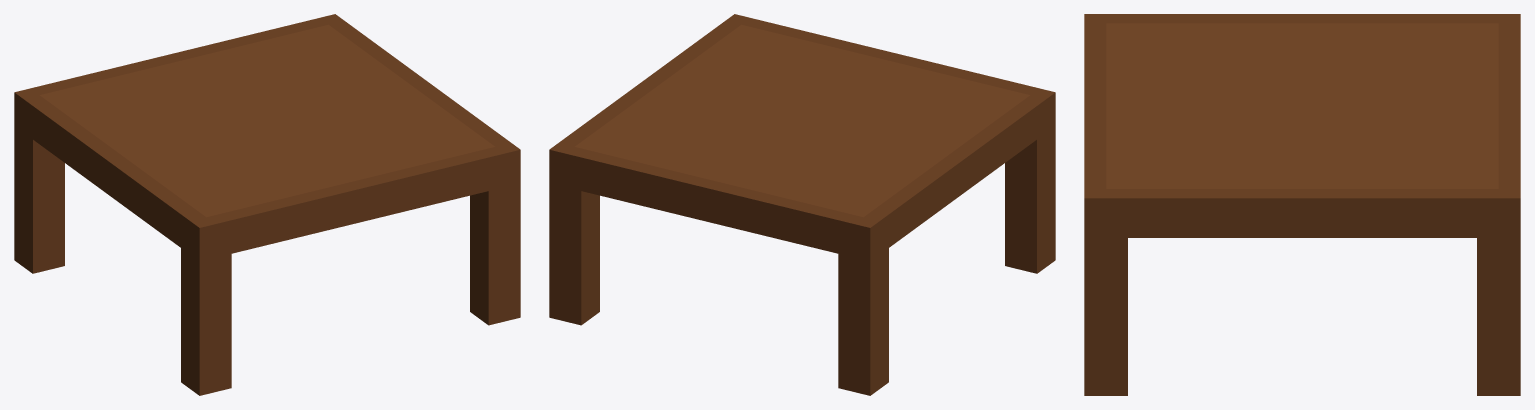
File: table_big_wood.dae
3 views of the same model, side by side, from view 1: azimuth 30°, elevation 25°; view 2: azimuth 150°, elevation 25°; view 3: azimuth 270°, elevation 25° (orthographic). The views are drawn at different scales.
Visible parts, largest first — view 1: PlaneCOL; view 2: PlaneCOL; view 3: PlaneCOL.
Part boxes in pixels (x1,y1,x2,y2): PlaneCOL: [14, 14, 520, 395]; PlaneCOL: [549, 14, 1055, 395]; PlaneCOL: [1084, 14, 1520, 395].
Bounding box in the file's own units: 2 × 2 × 1.
